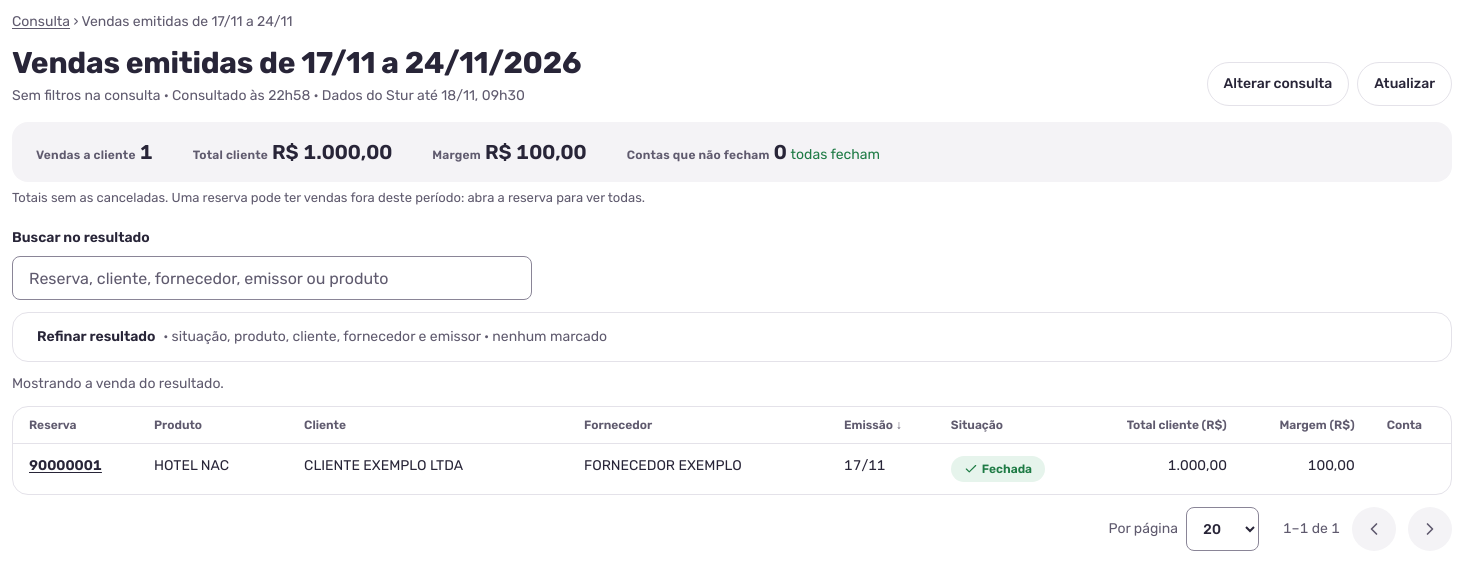
Atualizar que volta vazio apaga o guardado
Click the button "Atualizar": (1405, 84) [1357,62,1452,106]
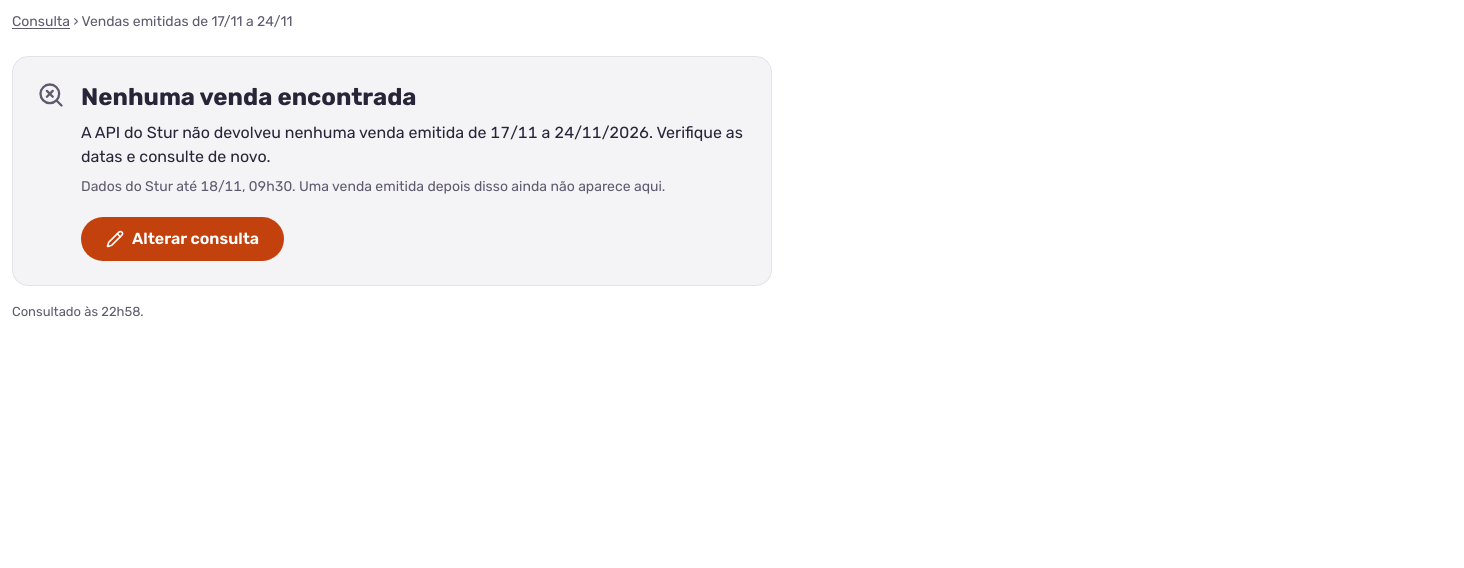
Expected: the heading "Nenhuma venda encontrada" is shown, [81,83,416,111]
